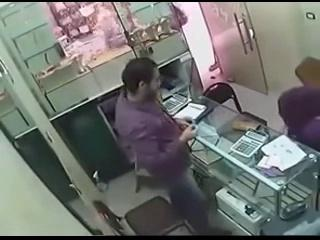Normal: (113, 57, 211, 232)
